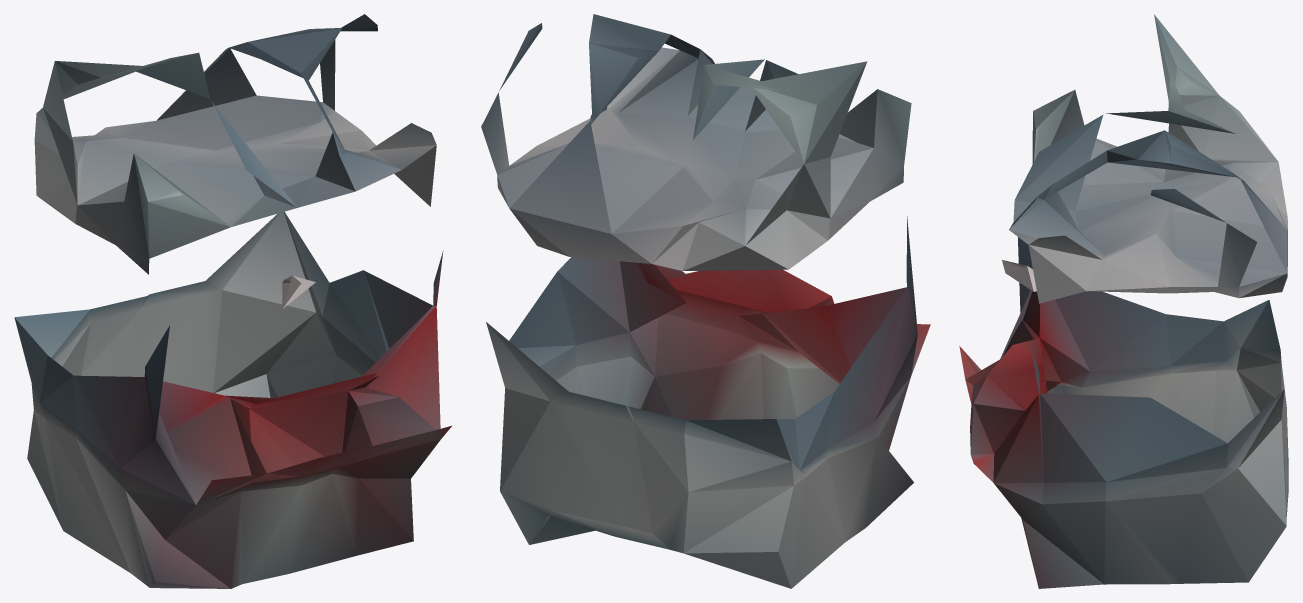
3 views of the same model, side by side, from view 1: azimuth 30°, elevation 25°; view 2: azimuth 150°, elevation 25°; view 3: azimuth 270°, elevation 25° (orthographic). The views are drawn at different scales.
Bounding box in the file's own units: 1.6 × 2.4 × 1.6.
